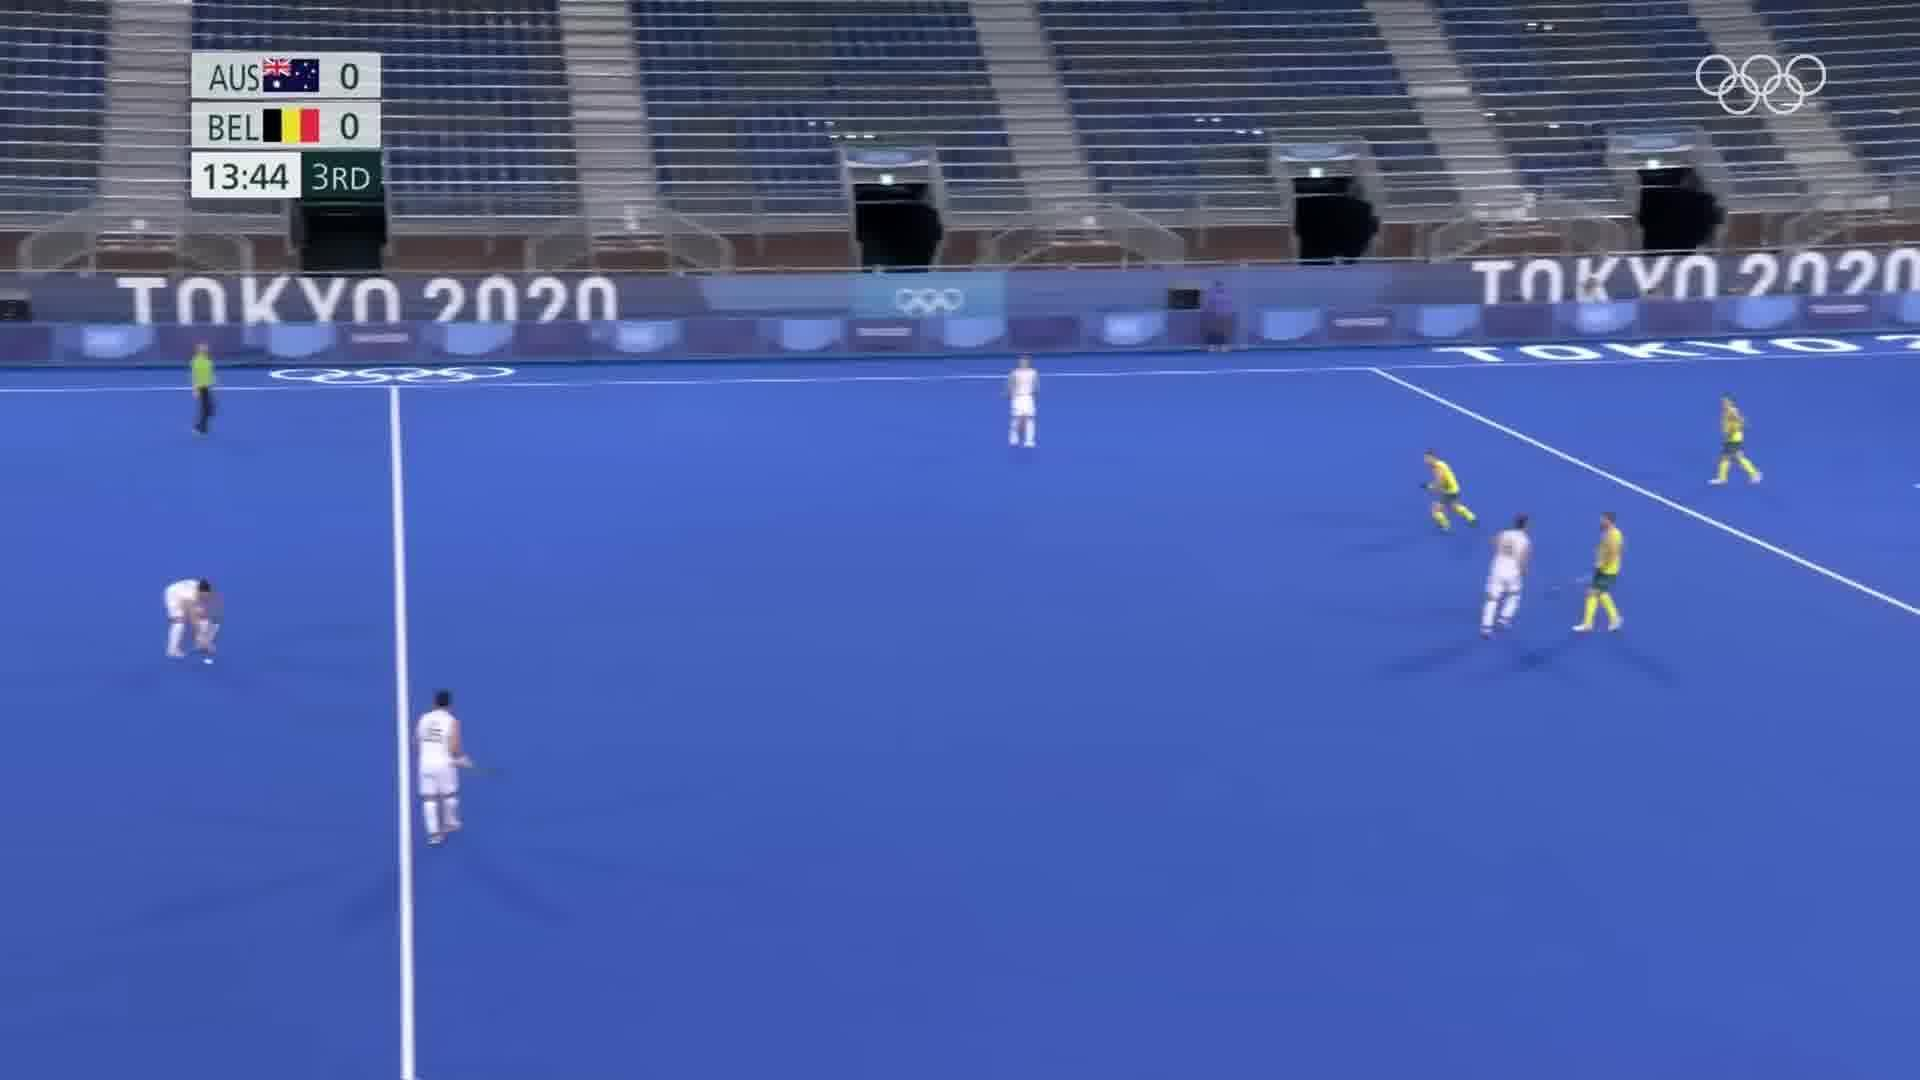ball: (202, 651, 219, 667)
